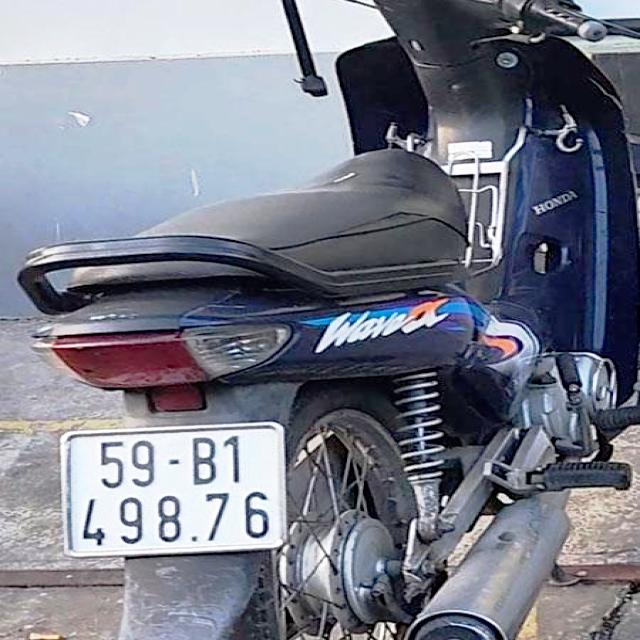license_plate: (60, 427, 285, 559)
